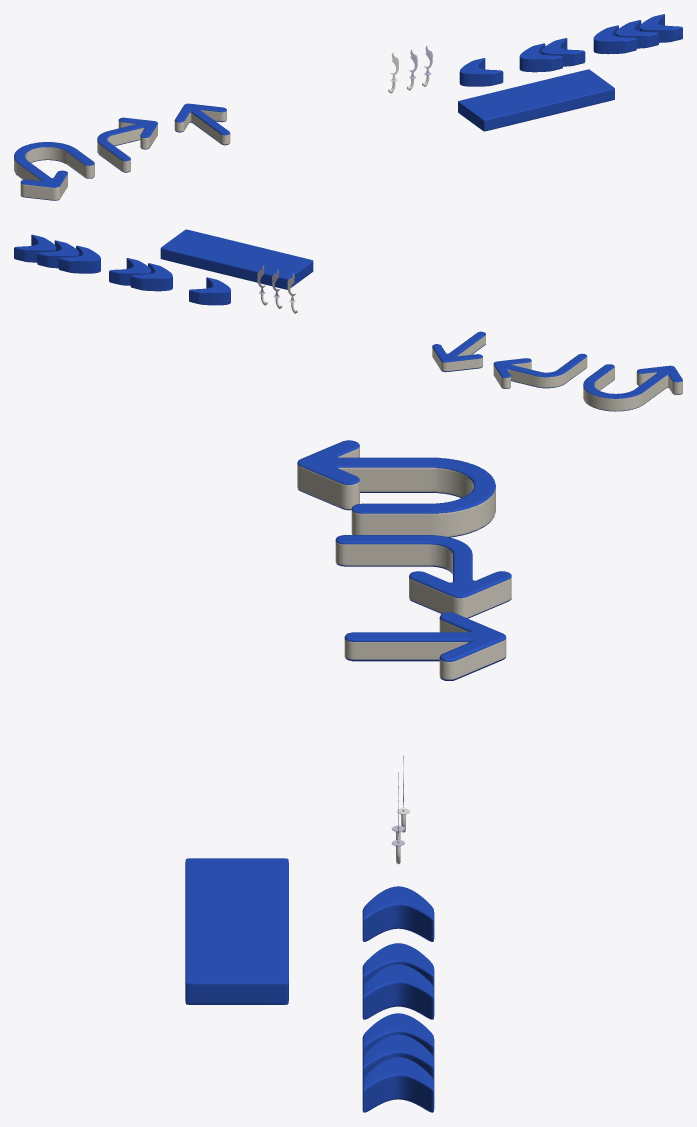
The model's file is ornaments.fbx.
3 views of the same model, one above another, from view 1: azimuth 30°, elevation 25°; view 2: azimuth 150°, elevation 25°; view 3: azimuth 270°, elevation 25° (orthographic). The views are drawn at different scales.
Parts seen in each view (by area): view 1: Box, Curve, Arrow.003, Curve.001, Arrow.002, Curve.002, Arrow.001; view 2: Box, Curve, Arrow.003, Curve.001, Arrow.002, Curve.002, Arrow.001; view 3: Box, Curve, Curve.001, Curve.002, Arrow.003, Arrow.002, Arrow.001.
Part boxes in pixels (x1=…): Box: x1=458, y1=69, x2=614, y2=131; Curve: x1=14, y1=142, x2=94, y2=200; Arrow.003: x1=593, y1=14, x2=682, y2=54; Curve.001: x1=97, y1=117, x2=157, y2=172; Arrow.002: x1=519, y1=38, x2=585, y2=72; Curve.002: x1=174, y1=103, x2=230, y2=145; Arrow.001: x1=459, y1=58, x2=503, y2=86; Box: x1=160, y1=229, x2=313, y2=289; Curve: x1=583, y1=364, x2=682, y2=411; Arrow.003: x1=14, y1=234, x2=100, y2=273; Curve.001: x1=493, y1=353, x2=587, y2=388; Arrow.002: x1=109, y1=258, x2=172, y2=291; Curve.002: x1=432, y1=331, x2=485, y2=372; Arrow.001: x1=189, y1=277, x2=230, y2=305; Box: x1=185, y1=858, x2=288, y2=1004; Curve: x1=297, y1=440, x2=495, y2=537; Curve.001: x1=335, y1=535, x2=511, y2=618; Curve.002: x1=344, y1=612, x2=506, y2=680; Arrow.003: x1=362, y1=1013, x2=434, y2=1112; Arrow.002: x1=362, y1=943, x2=434, y2=1019; Arrow.001: x1=362, y1=886, x2=434, y2=941.
Bounding box in the file's own units: 8343 × 579 × 1823.
